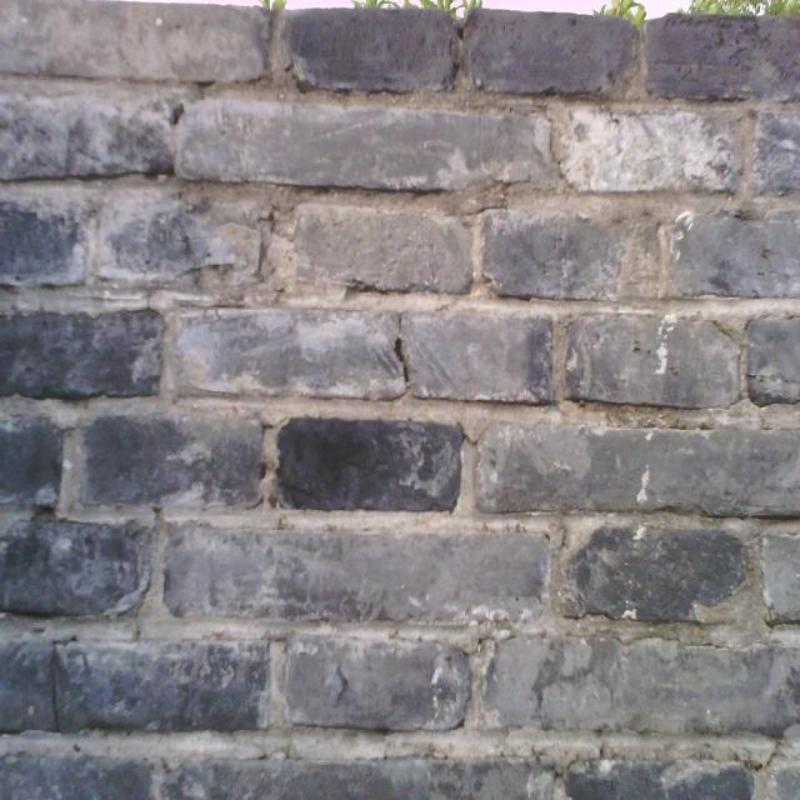pothole: (394, 312, 409, 382), (50, 645, 61, 734)
